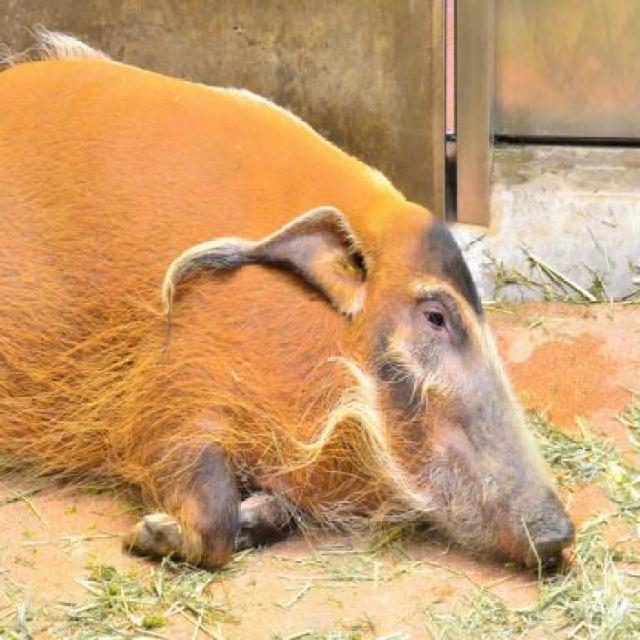pig: (0, 21, 576, 574)
